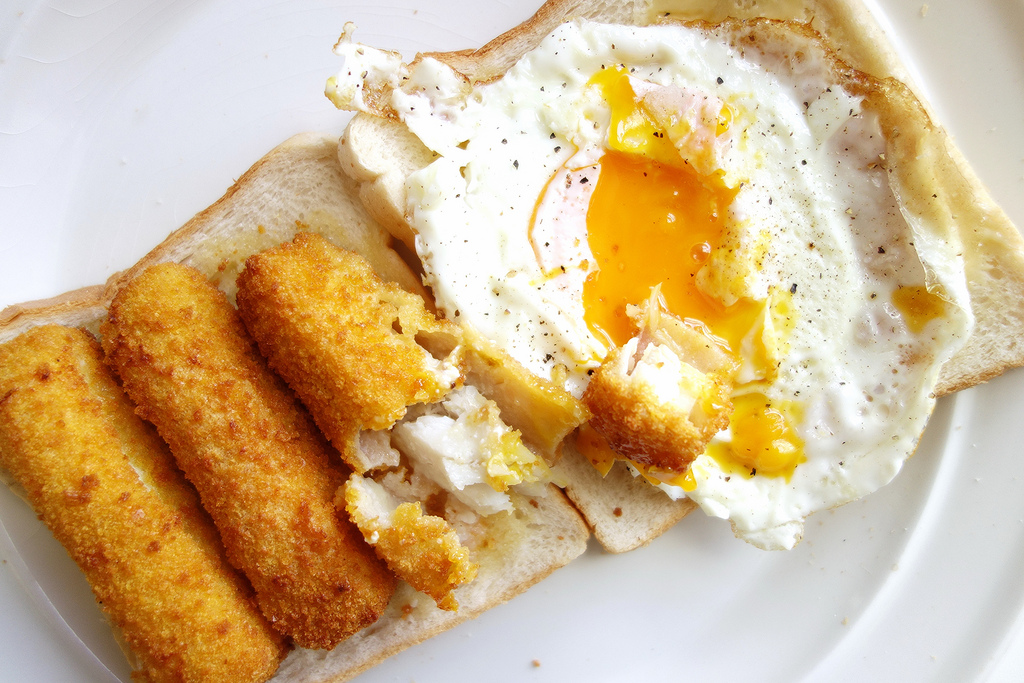fried egg: (444, 80, 947, 502)
slice of bread: (334, 16, 1023, 517)
